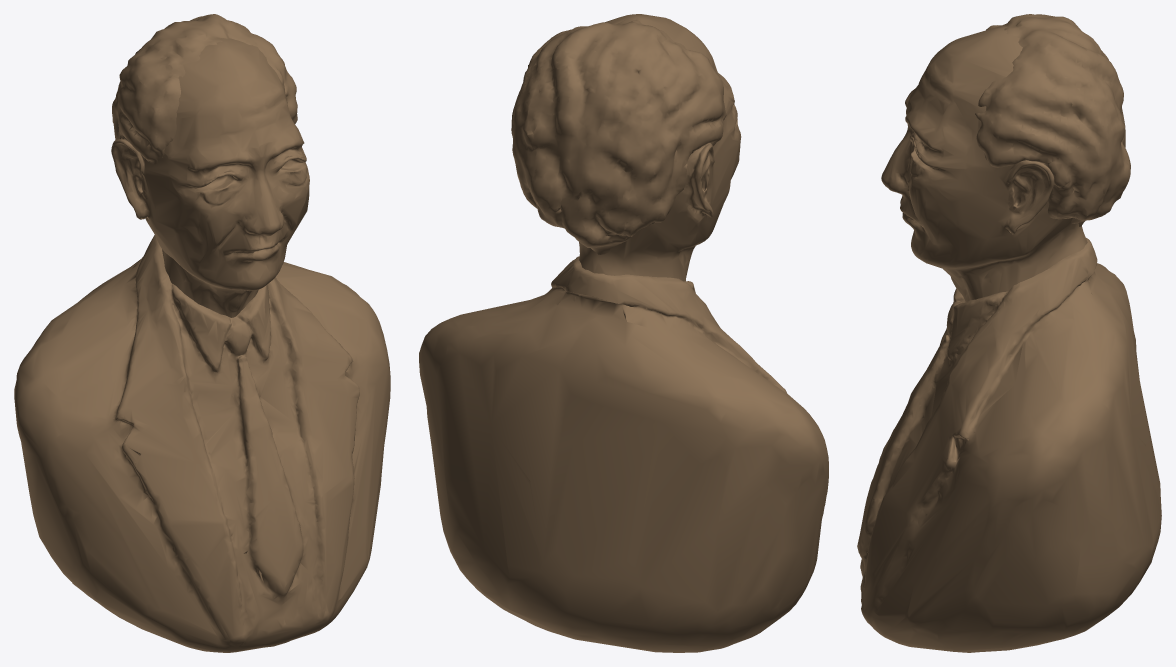
The model's file is LCC.glb.
3 views of the same model, side by side, from view 1: azimuth 30°, elevation 25°; view 2: azimuth 150°, elevation 25°; view 3: azimuth 270°, elevation 25° (orthographic). The views are drawn at different scales.
Parts seen in each view (by area): view 1: 00-final; view 2: 00-final; view 3: 00-final.
Boxes of the visible parts, bbox=[...] form: 00-final: bbox=[14, 14, 390, 652]; 00-final: bbox=[419, 14, 828, 652]; 00-final: bbox=[857, 14, 1161, 652].
Size of the model in its own units: 3.38 by 5.04 by 2.35.
